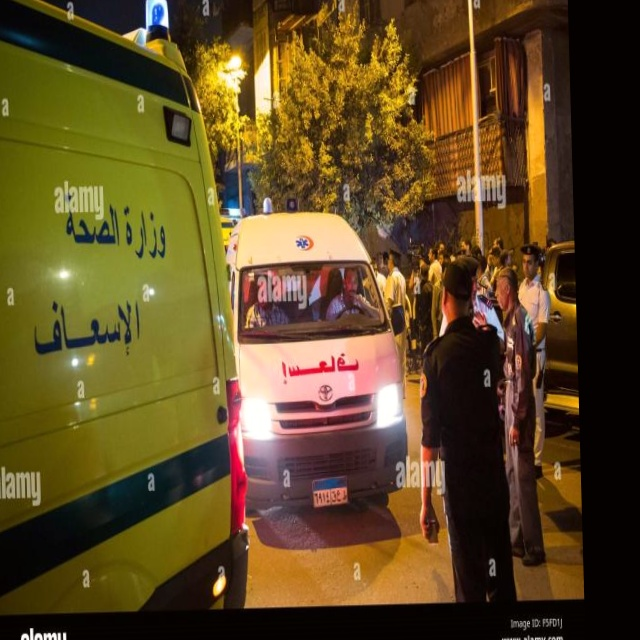Ambulance: (0, 0, 251, 617), (223, 192, 411, 515)
person: (412, 257, 517, 604), (493, 266, 546, 566), (516, 242, 555, 480), (383, 248, 411, 400), (324, 266, 381, 322), (244, 273, 290, 328)
